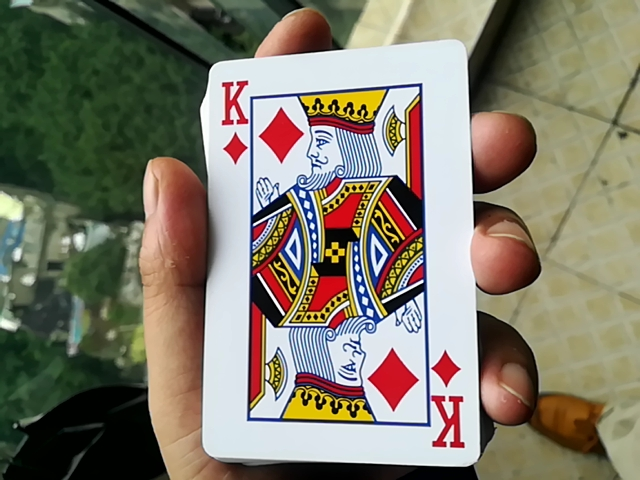fk k: (190, 30, 475, 464)
